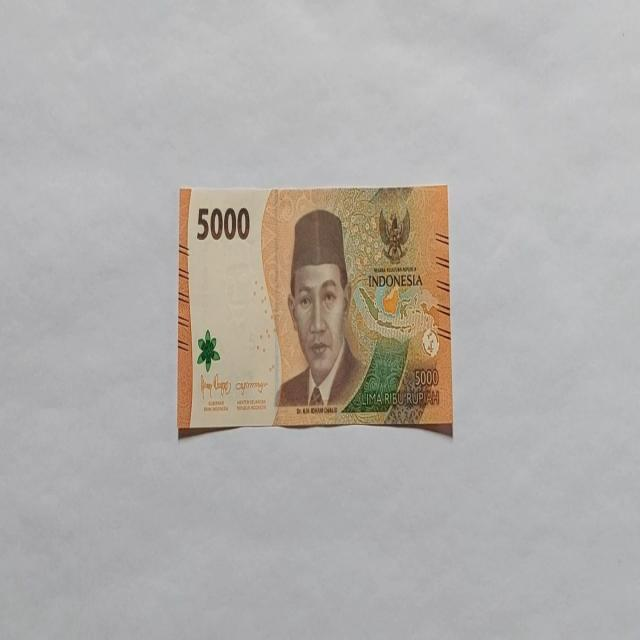lima ribu rupiah: (177, 183, 453, 437), (272, 207, 368, 413)
